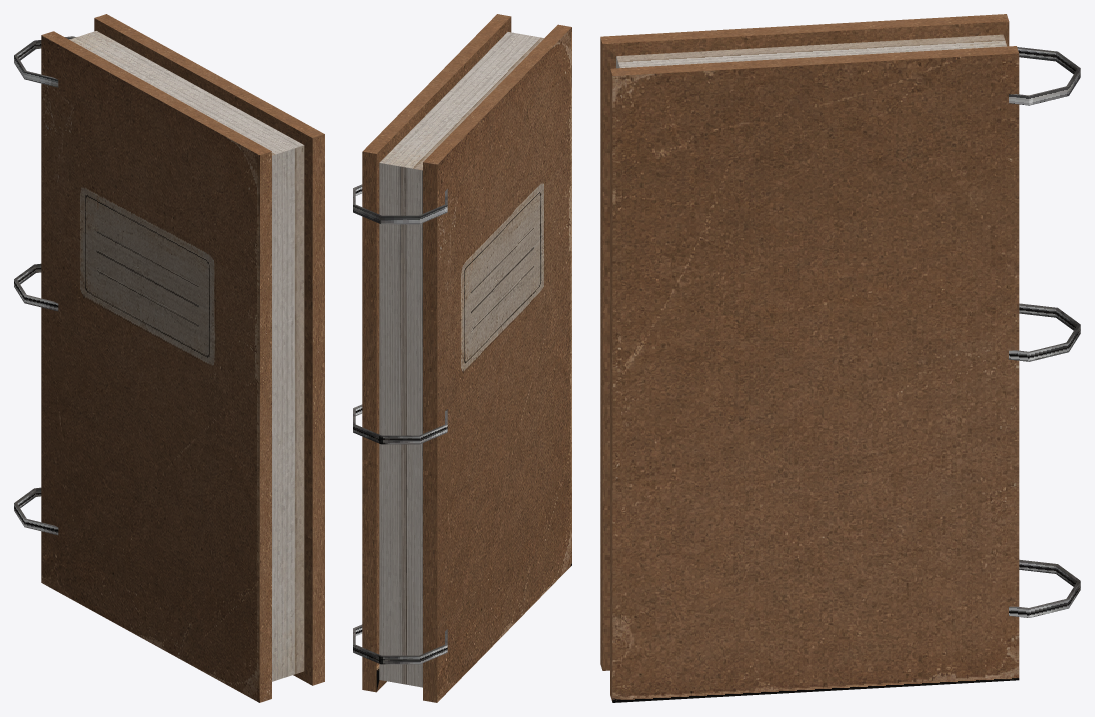
Rendered from cuaderno.glb.
3 renders of one model, left to right at view 1: azimuth 30°, elevation 25°; view 2: azimuth 150°, elevation 25°; view 3: azimuth 270°, elevation 25°, orthographic. The views are drawn at different scales.
Parts seen in each view (by area): view 1: cuaderno; view 2: cuaderno; view 3: cuaderno.
Boxes of the visible parts, <box> form: cuaderno: <box>14,14,324,702</box>; cuaderno: <box>353,14,571,702</box>; cuaderno: <box>600,14,1080,702</box>.
Bounding box in the file's own units: 0.3843 × 1.61 × 1.12.
1 material, 1 textured.
